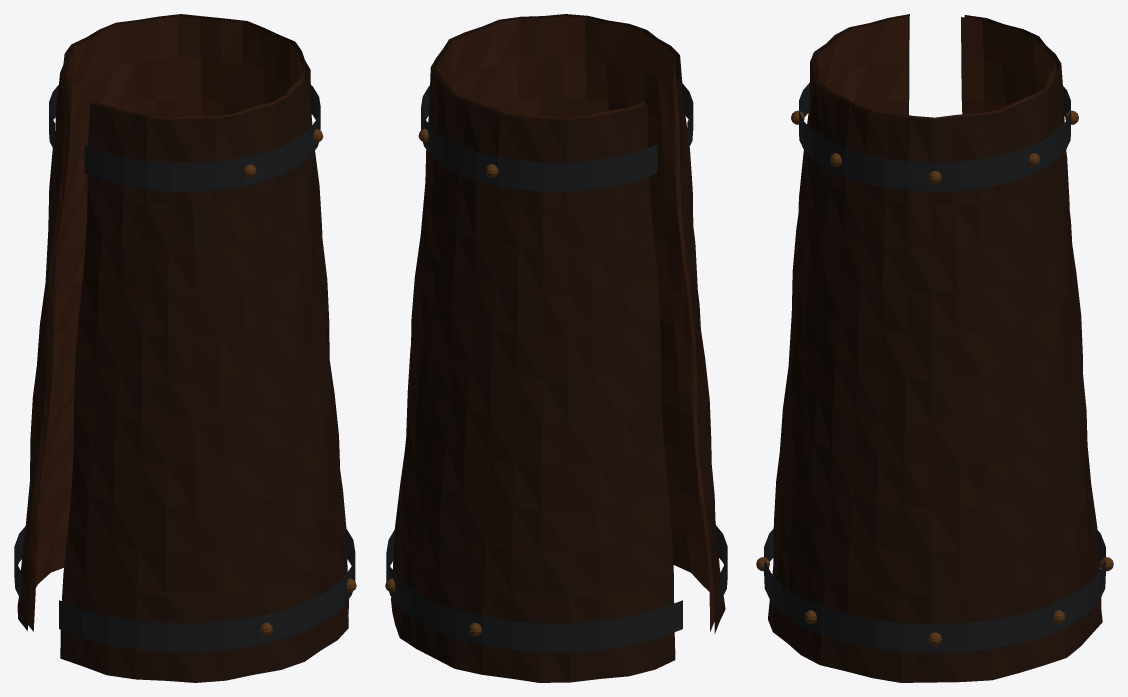
The model's file is bracer_LOD0.obj.
3 views of the same model, side by side, from view 1: azimuth 30°, elevation 25°; view 2: azimuth 150°, elevation 25°; view 3: azimuth 270°, elevation 25° (orthographic).
Parts seen in each view (by area): view 1: RatiborBracer_LOD0; view 2: RatiborBracer_LOD0; view 3: RatiborBracer_LOD0.
Boxes of the visible parts, x1=… form: RatiborBracer_LOD0: x1=14, y1=14, x2=356, y2=682; RatiborBracer_LOD0: x1=385, y1=14, x2=727, y2=682; RatiborBracer_LOD0: x1=756, y1=14, x2=1113, y2=682.
Size of the model in its own units: 0.1952 by 0.34 by 0.2014.
